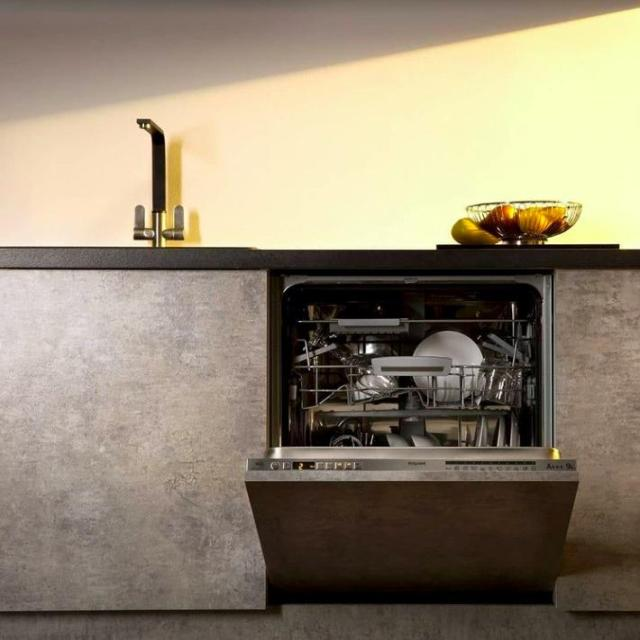dishwasher: (242, 268, 578, 608)
